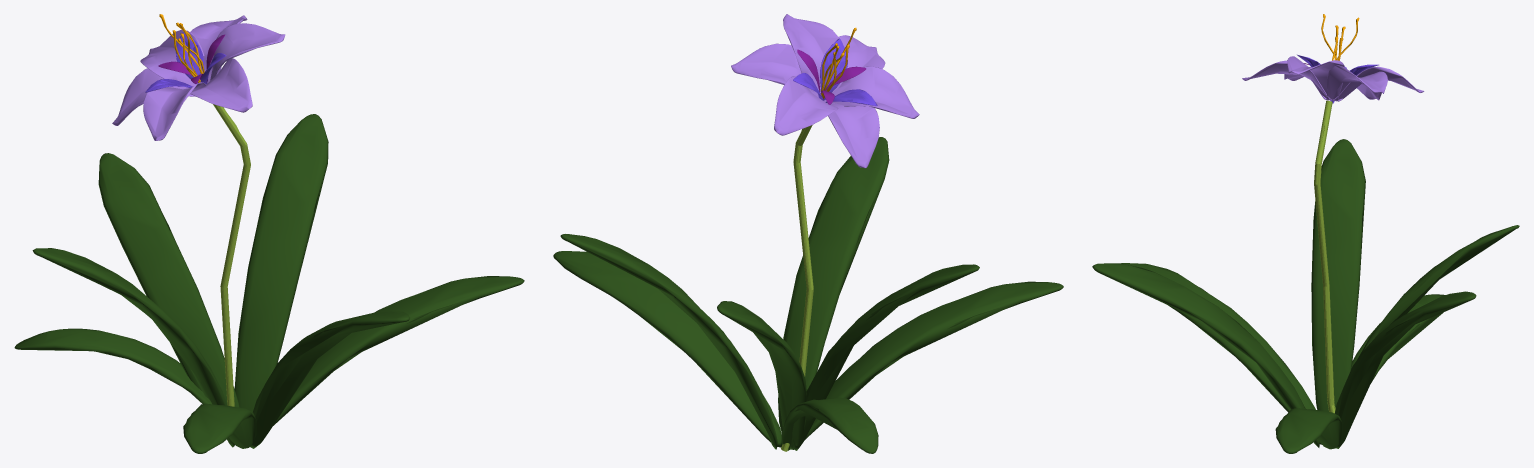
The model's file is flor_VIOLETA.fbx.
3 renders of one model, left to right at view 1: azimuth 30°, elevation 25°; view 2: azimuth 150°, elevation 25°; view 3: azimuth 270°, elevation 25°, orthographic. The views are drawn at different scales.
Parts seen in each view (by area): view 1: Cubo.042, Cubo.038, Cubo.036, Cubo.043, Cubo.044, Cubo.040, Cubo.037, Plano.013, PetaloGrande4.003, PetaloGrande5.003, PetaloGrande3.003, PetaloGrande1.003 (+3 smaller); view 2: Cubo.043, Cubo.036, Cubo.037, Cubo.042, Cubo.044, Cubo.038, Cubo.040, PetaloGrande6.003, PetaloGrande5.003, PetaloGrande1.003, Plano.013, PetaloGrande2.003 (+3 smaller); view 3: Cubo.044, Cubo.043, Cubo.042, Cubo.037, Cubo.036, Cubo.038, Plano.013, PetaloGrande2.003, Cubo.040, PetaloGrande3.003, PetaloGrande4.003, PetaloGrande1.003.
Boxes of the visible parts, x1,y1,x2,y2 form: Cubo.042: [234, 114, 328, 411]; Cubo.038: [98, 153, 239, 407]; Cubo.036: [273, 276, 524, 425]; Cubo.043: [250, 310, 409, 448]; Cubo.044: [32, 248, 234, 447]; Cubo.040: [14, 328, 211, 404]; Cubo.037: [183, 403, 256, 453]; Plano.013: [213, 104, 250, 406]; PetaloGrande4.003: [190, 58, 252, 112]; PetaloGrande5.003: [143, 82, 206, 140]; PetaloGrande3.003: [210, 23, 285, 80]; PetaloGrande1.003: [140, 29, 204, 86]; Cubo.043: [778, 137, 889, 433]; Cubo.036: [553, 251, 782, 447]; Cubo.037: [804, 281, 1063, 440]; Cubo.042: [560, 234, 777, 449]; Cubo.044: [793, 264, 979, 450]; Cubo.038: [717, 301, 807, 449]; Cubo.040: [781, 397, 878, 453]; PetaloGrande6.003: [827, 103, 879, 168]; PetaloGrande5.003: [824, 66, 919, 118]; PetaloGrande1.003: [774, 76, 838, 135]; Plano.013: [781, 125, 813, 451]; PetaloGrande2.003: [731, 43, 816, 96]; Cubo.044: [1311, 139, 1365, 411]; Cubo.043: [1092, 263, 1319, 447]; Cubo.042: [1334, 291, 1476, 448]; Cubo.037: [1121, 263, 1321, 444]; Cubo.036: [1275, 408, 1342, 453]; Cubo.038: [1358, 225, 1519, 357]; Plano.013: [1314, 100, 1335, 413]; PetaloGrande2.003: [1326, 65, 1387, 101]; Cubo.040: [1351, 294, 1445, 382]; PetaloGrande3.003: [1287, 56, 1344, 100]; PetaloGrande4.003: [1242, 60, 1331, 100]; PetaloGrande1.003: [1332, 66, 1424, 100].
Size of the model in its own units: 1561 by 1431 by 1373.
